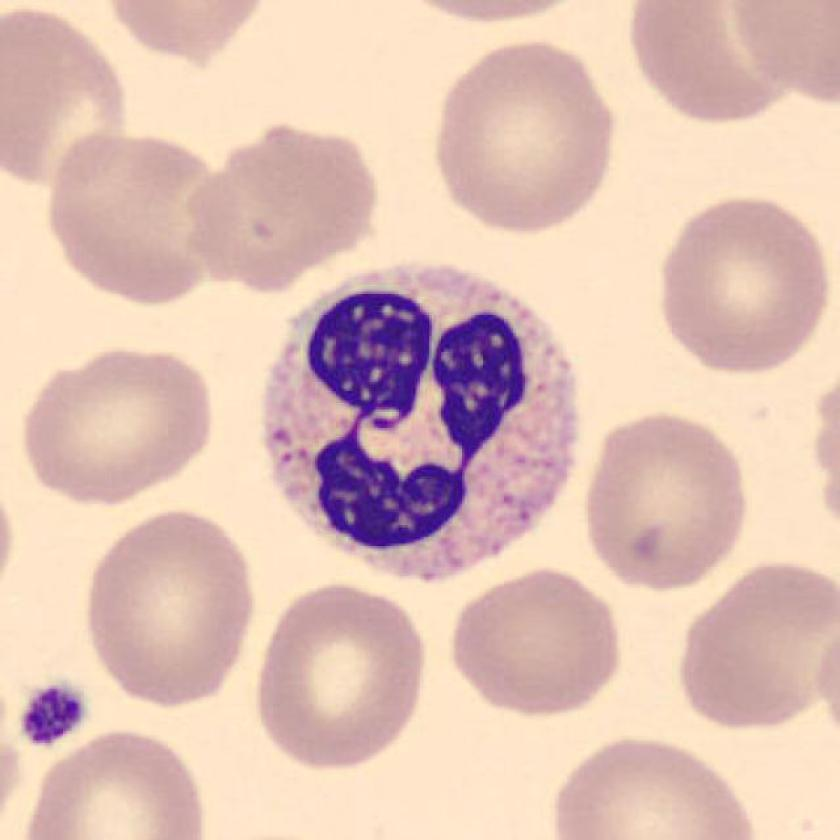neutrophil: (261, 261, 580, 577)
